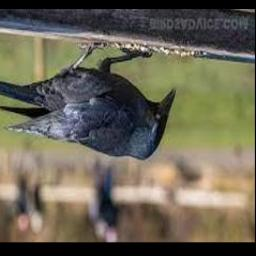Crow: (0, 43, 176, 161)
